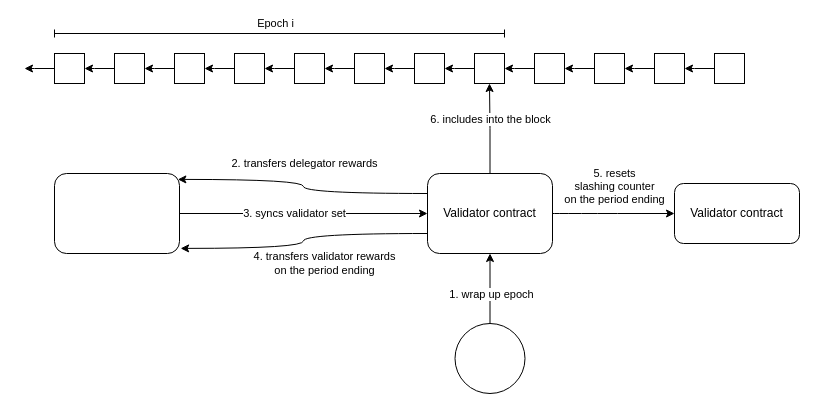
The diagram is 817 pixels wide and 411 high, and some of its shapes have lost their labels. The box of each missing label's shape, as (x1, y1, x2, y2) in pixels:
Block producer: (454, 322, 525, 394)
Staking contract: (54, 172, 180, 254)
